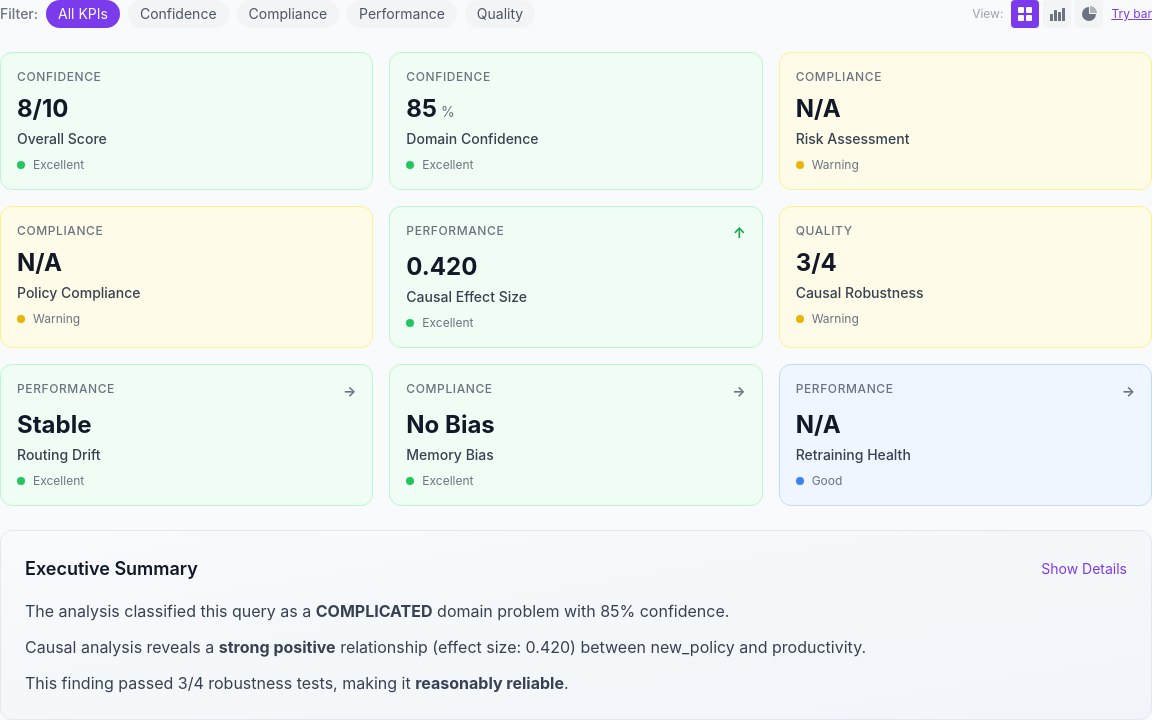
Test: ExecutiveKPIPanel › Chart type switching (Phase 6A) › can switch back to cards after selecting another chart type
# Switch to bar
Click the button with test id "chart-type-bar".
click(1057, 14)  # box [1043,0,1071,28]
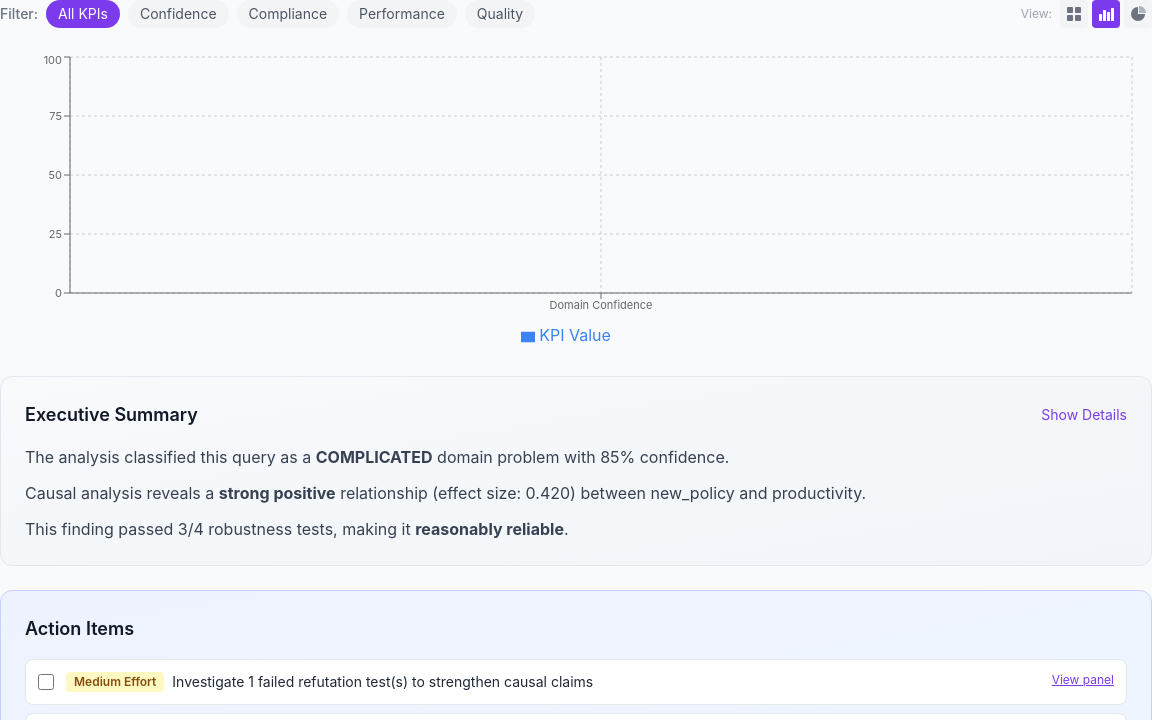
expect the element with test id "bar-chart-view" is shown: met, box [0,52,1151,352]
# Switch back to cards
Click the button with test id "chart-type-cards".
click(1074, 14)  # box [1060,0,1088,28]
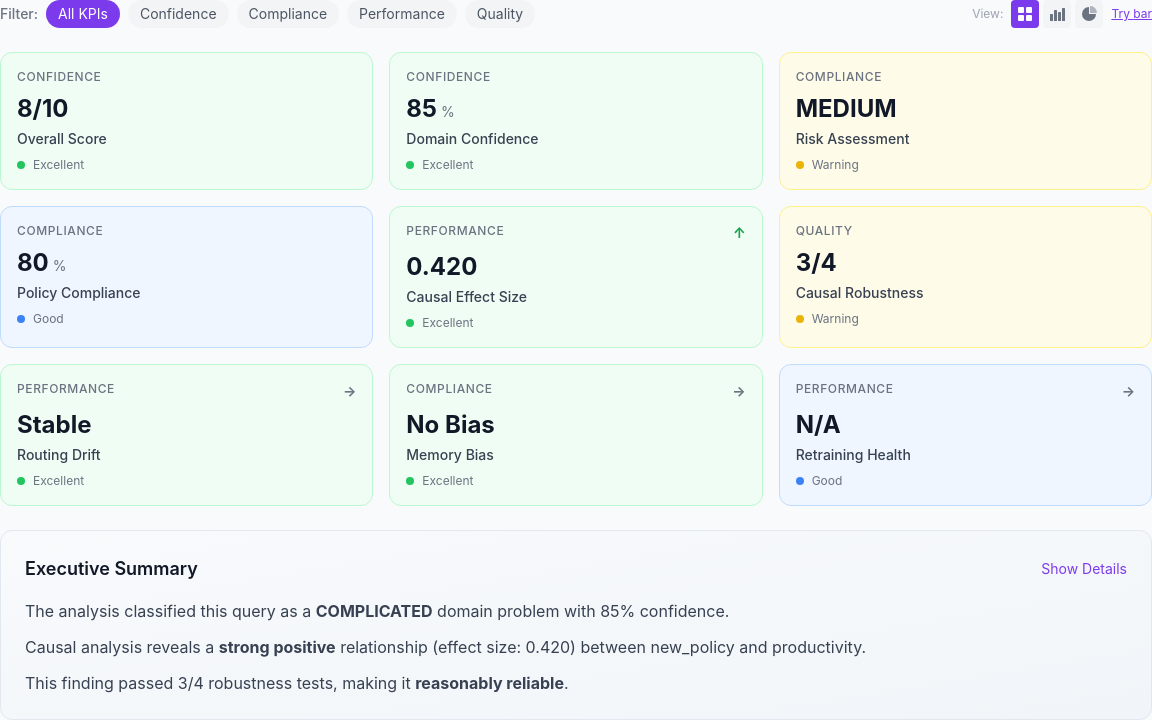
expect the element with test id "kpi-cards-view" is shown: met
